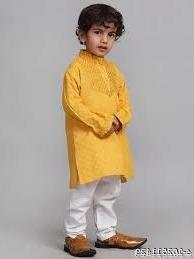Human: (49, 3, 165, 259)
